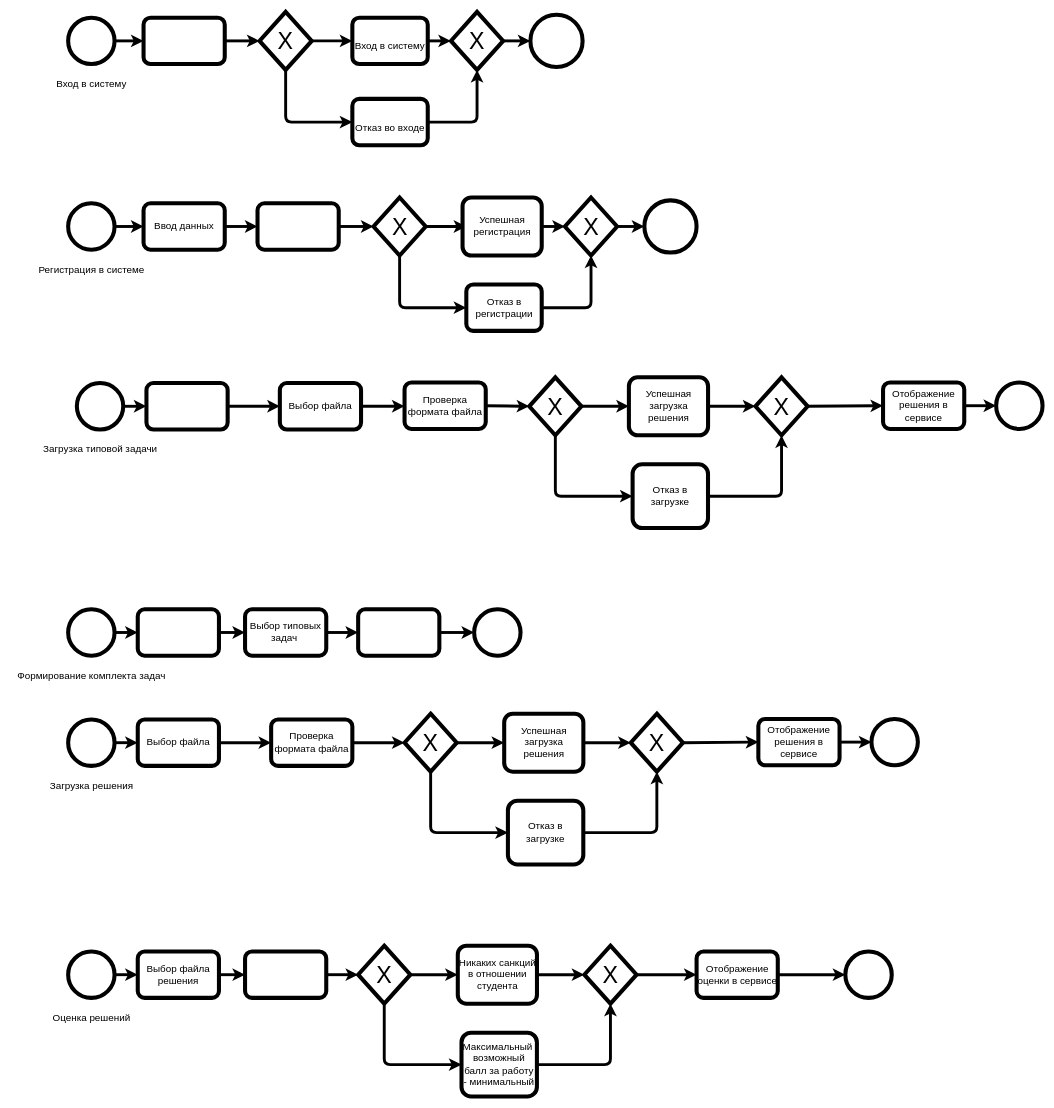
Image size: 1054x1108. Some labels were removed from this diagram. The shapes that lost their labels are listed below. From the top down, each one's centre as x and y in pixels, then its label:
At (x=183, y=40): "Проверка данных пользователя".
At (x=297, y=226): "Проверка корректности данных".
At (x=186, y=406): "Выбор группы".
At (x=178, y=632): "Выбор группы для выдачи заданий".
At (x=398, y=632): "Отображение комплектов в сервисе".
At (x=285, y=974): "Проверка на сдачу решения в срок".
